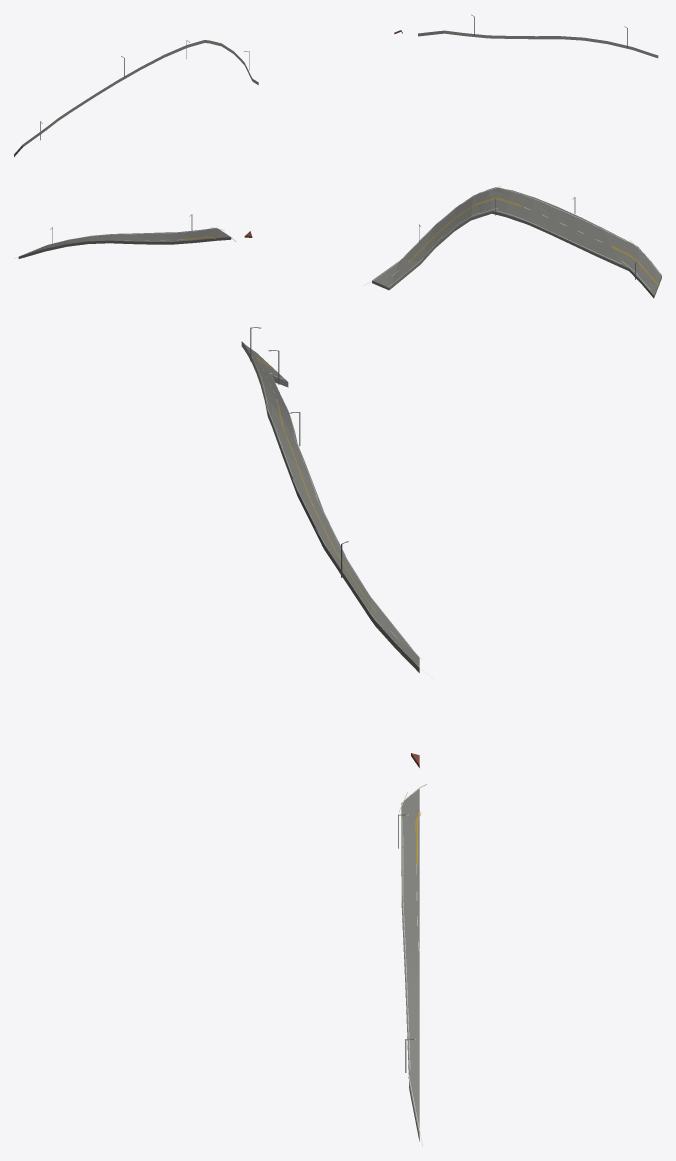
The picture shows the model from 3 angles, top to bottom: view 1: azimuth 30°, elevation 25°; view 2: azimuth 150°, elevation 25°; view 3: azimuth 270°, elevation 25°; orthographic projection. The views are drawn at different scales.
Size of the model in its own units: 283 by 69.86 by 39.06.
